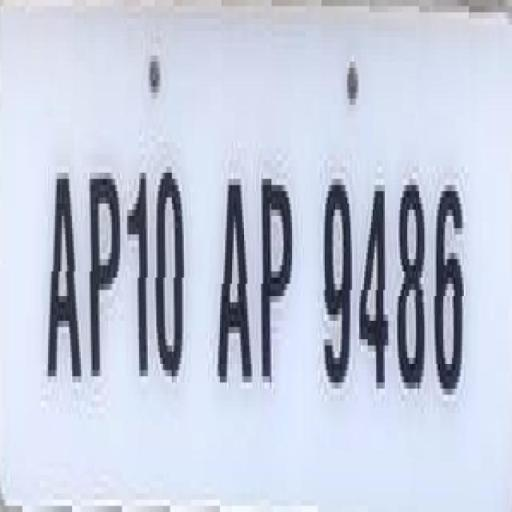number plate: (17, 6, 512, 500)
